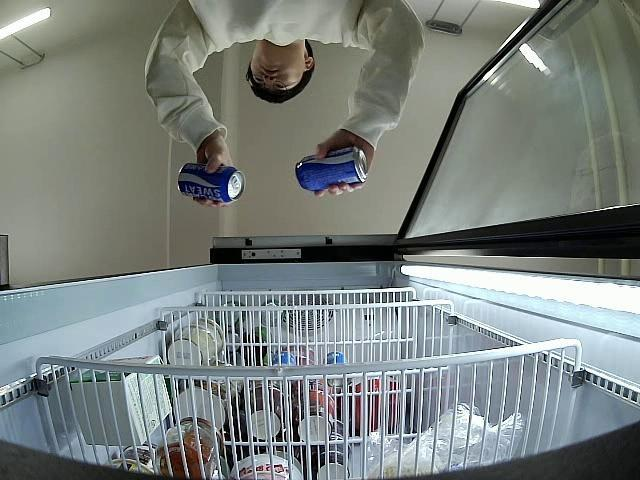13_pocariSweat: (296, 146, 367, 194), (178, 163, 245, 204)
